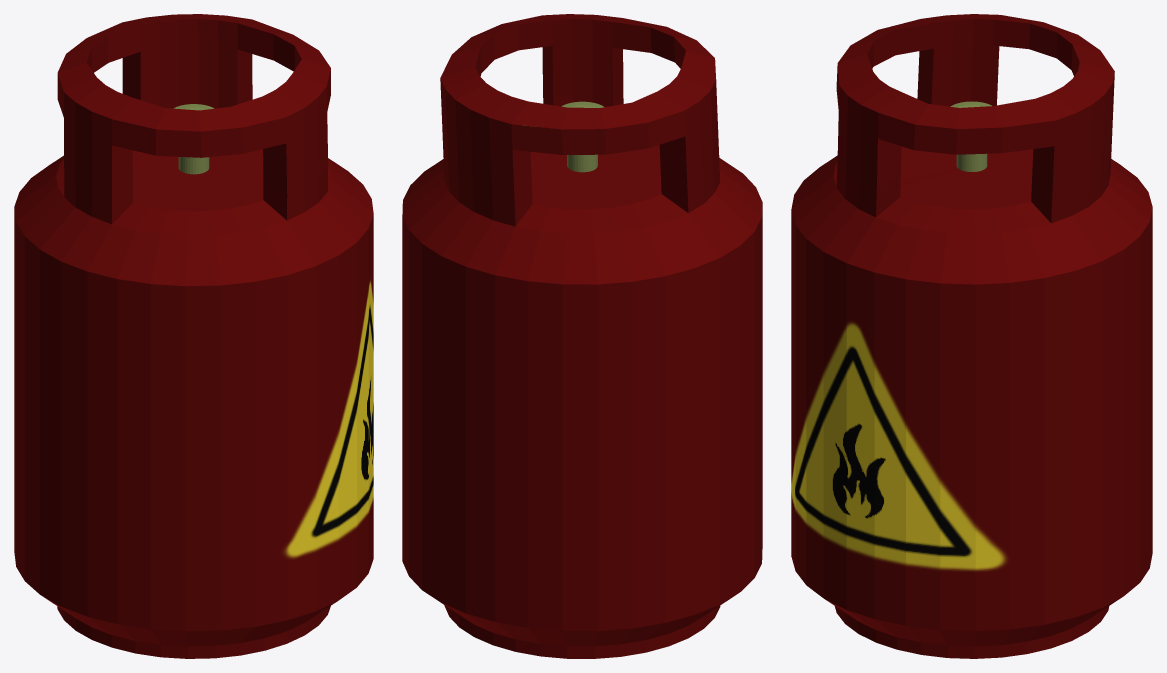
The model's file is Gas Canister.fbx.
3 renders of one model, left to right at view 1: azimuth 30°, elevation 25°; view 2: azimuth 150°, elevation 25°; view 3: azimuth 270°, elevation 25°, orthographic.
Visible parts, largest first — view 1: Gas Canister; view 2: Gas Canister; view 3: Gas Canister.
Part boxes in pixels (x1,y1,x2,y2): Gas Canister: [14, 14, 373, 658]; Gas Canister: [402, 14, 762, 658]; Gas Canister: [791, 14, 1152, 658].
Bounding box in the file's own units: 200 × 200 × 329.
